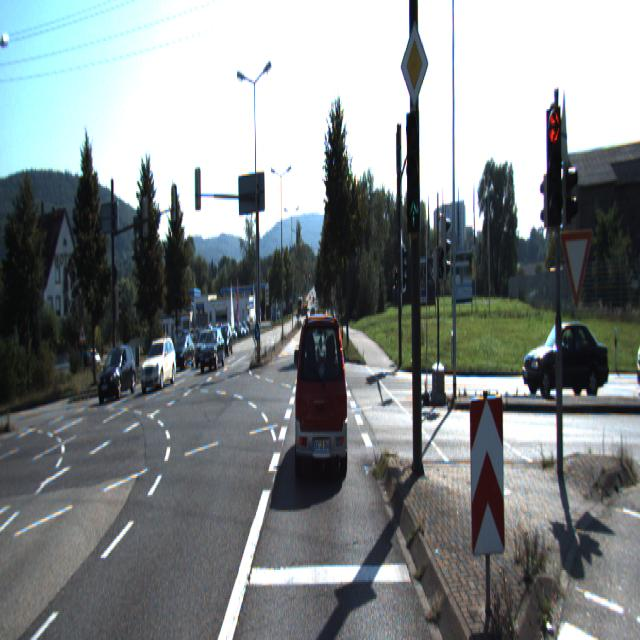Car: (294, 311, 348, 481), (522, 315, 610, 404), (97, 347, 136, 401), (140, 340, 176, 392), (200, 328, 224, 373)
